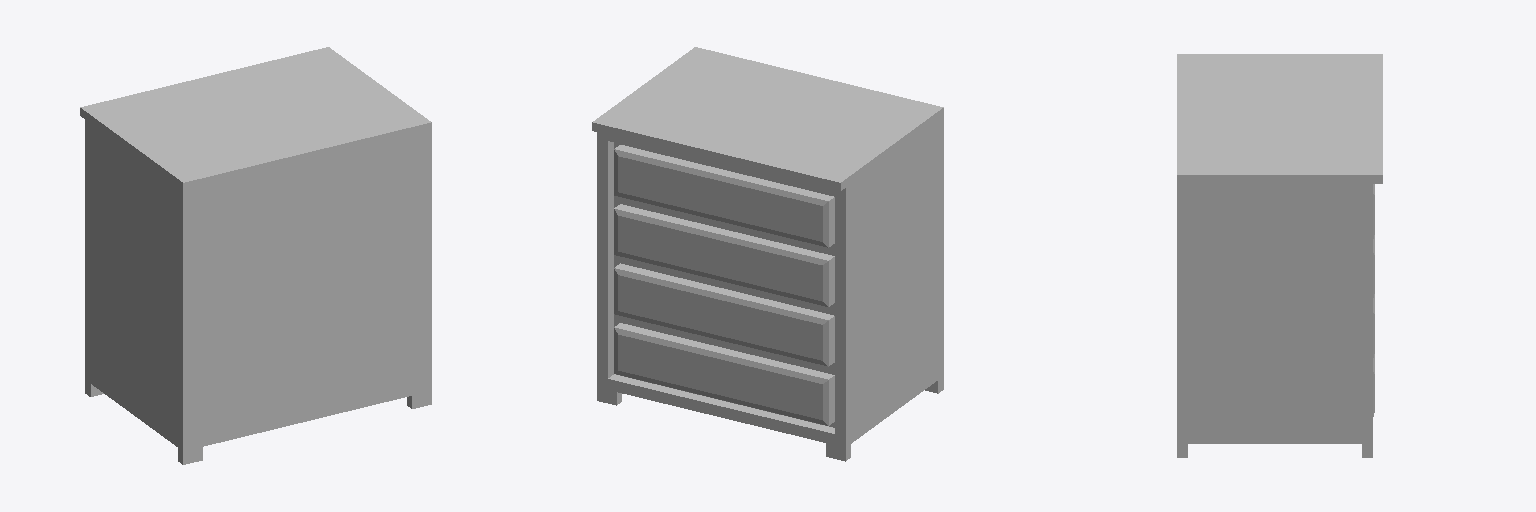
The model's file is Komoda.obj.
3 views of the same model, side by side, from view 1: azimuth 30°, elevation 25°; view 2: azimuth 150°, elevation 25°; view 3: azimuth 270°, elevation 25° (orthographic).
Visible parts, largest first — view 1: Komoda_Cube.021; view 2: Komoda_Cube.021; view 3: Komoda_Cube.021.
Part boxes in pixels (x1,y1,x2,y2): Komoda_Cube.021: (80, 47, 431, 464); Komoda_Cube.021: (592, 47, 943, 461); Komoda_Cube.021: (1177, 54, 1382, 457).
Size of the model in its own units: 2 by 2.17 by 1.44.